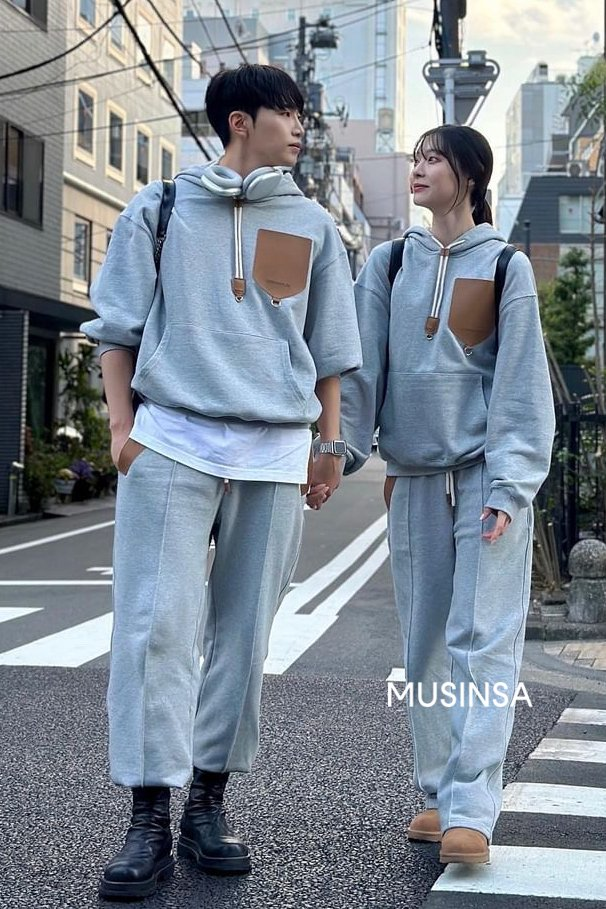Accessories: (312, 438, 354, 461)
Boots: (99, 774, 266, 903), (408, 806, 501, 871)
Headphone: (201, 163, 291, 206)
Hoodie: (94, 155, 361, 436), (346, 222, 554, 487)
Training pants: (110, 436, 306, 778), (388, 473, 532, 825)
